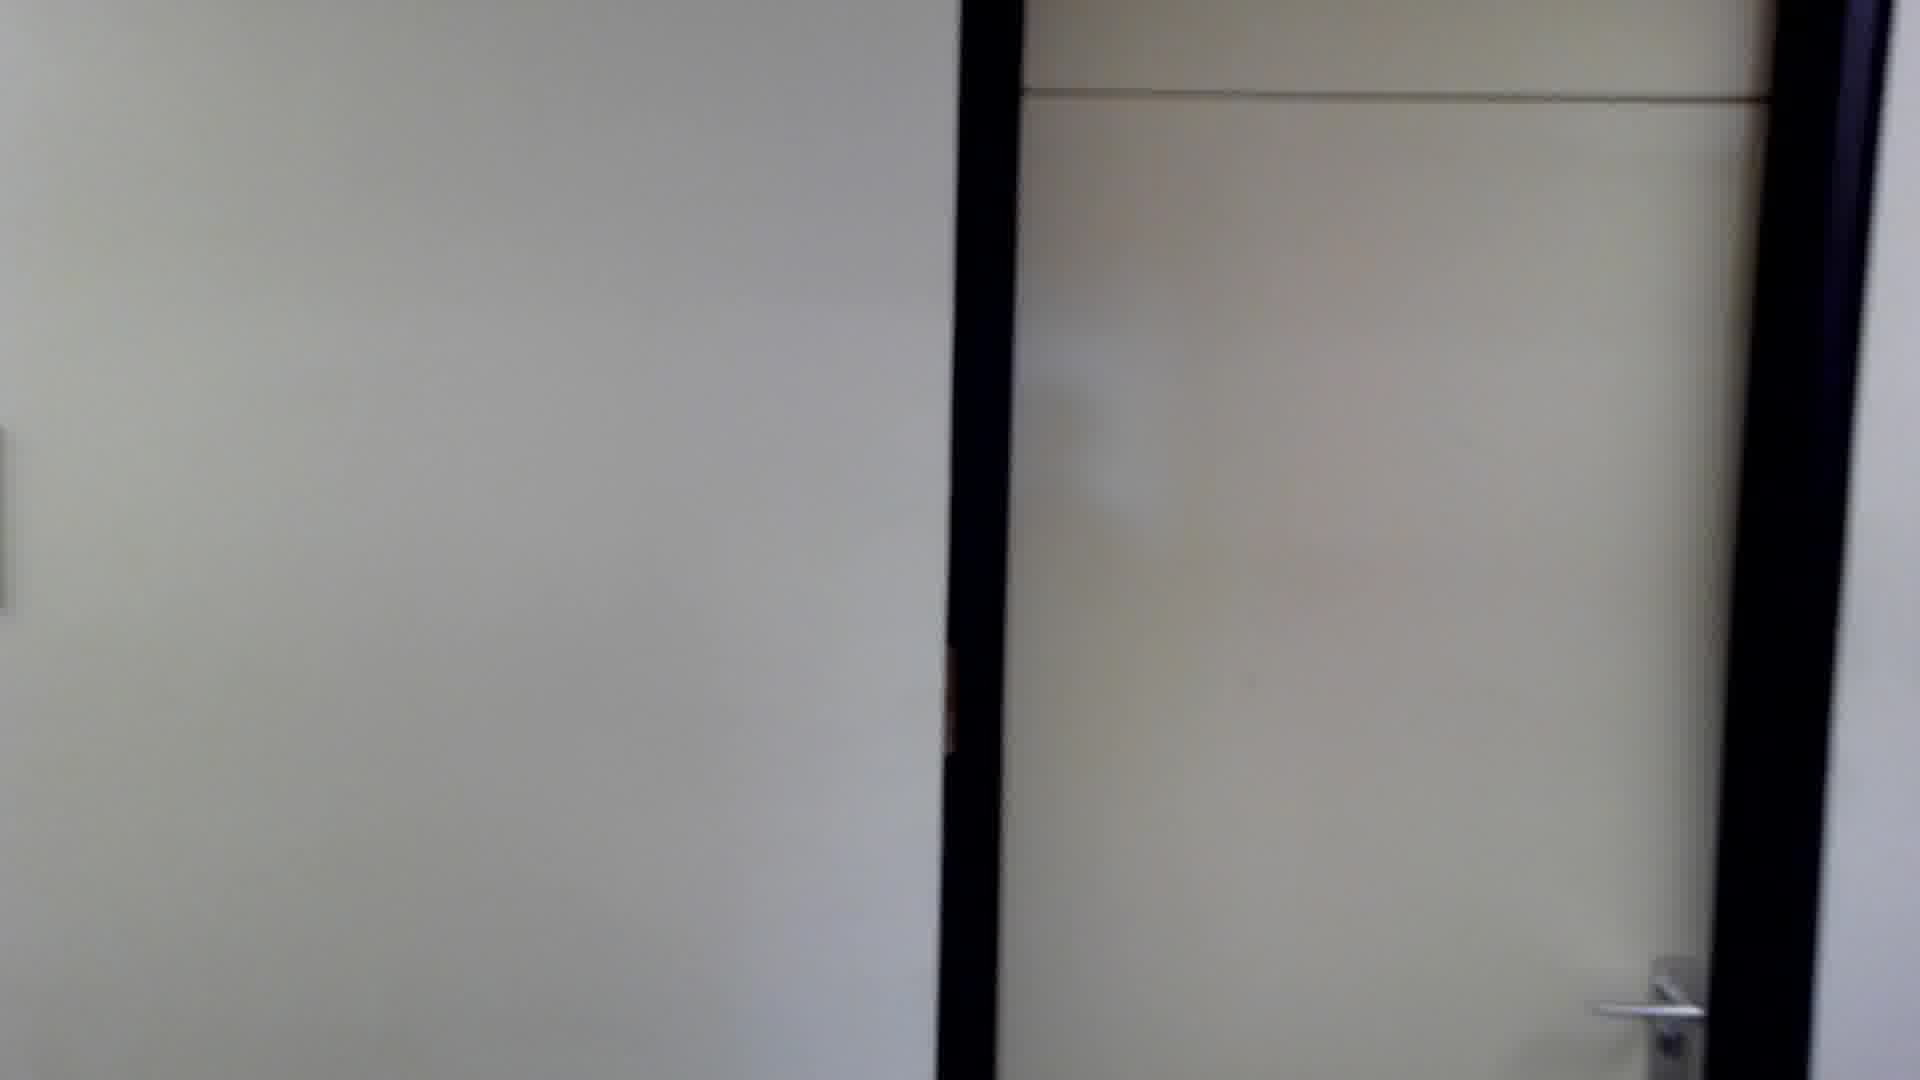Door: (924, 76, 1833, 1080)
